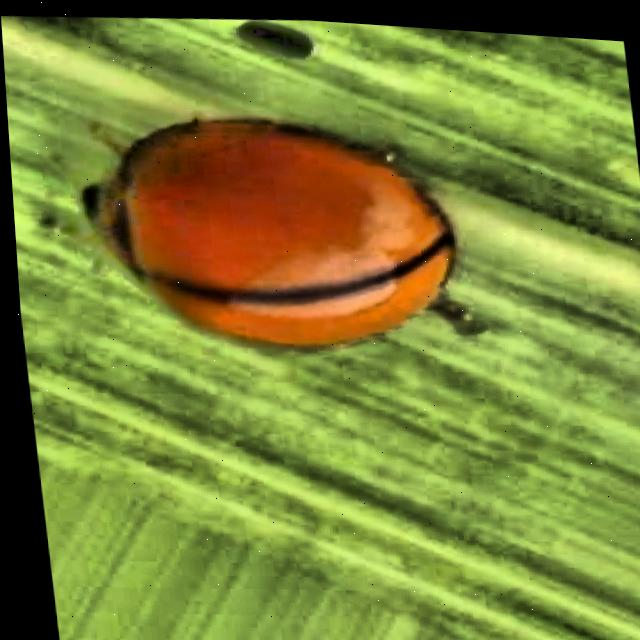Ladybug: (2, 34, 562, 436)
